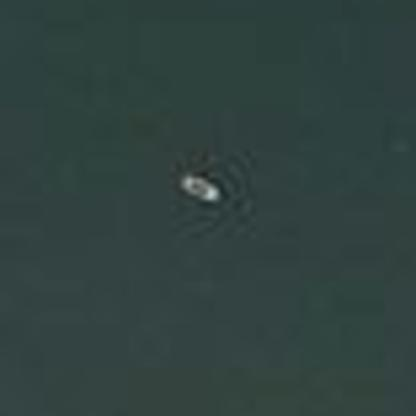ship: (173, 167, 231, 209)
